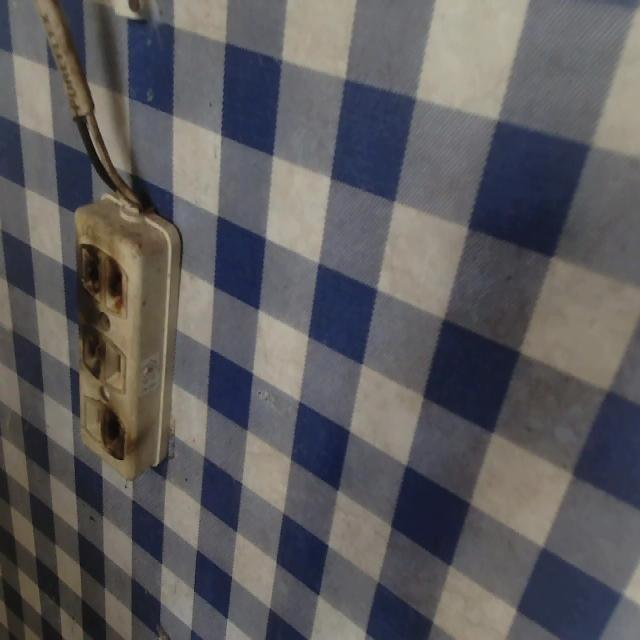-: (73, 239, 128, 317), (78, 321, 108, 380), (102, 404, 126, 460)
